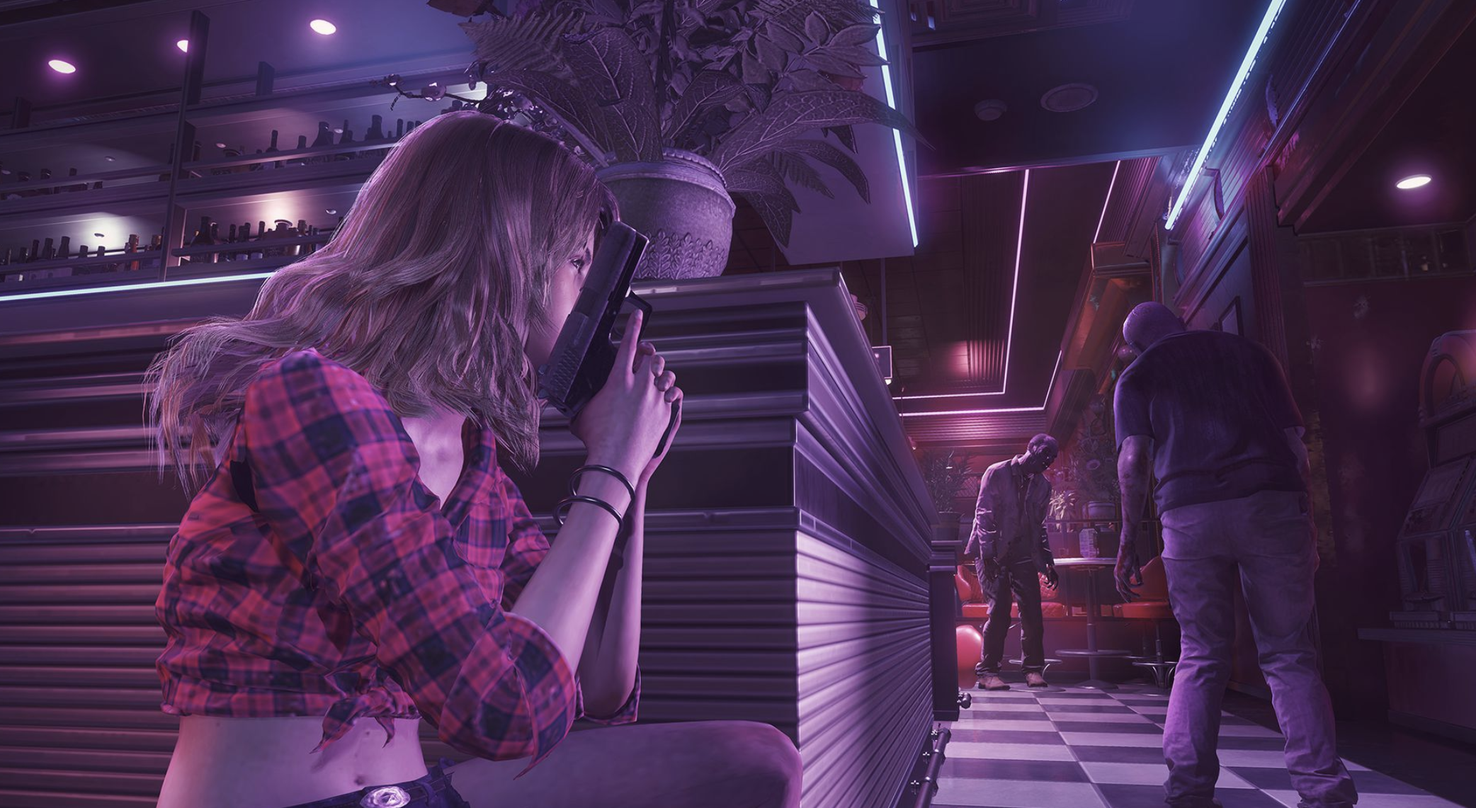gun_018: (521, 215, 686, 467)
